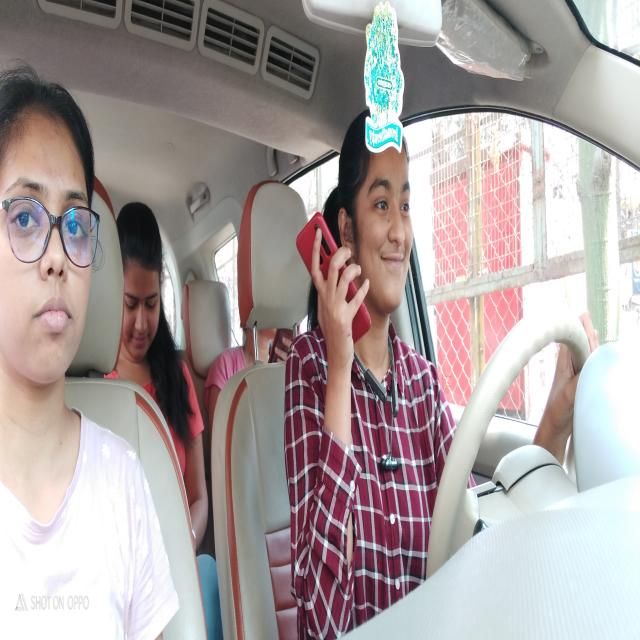mobile: (290, 215, 374, 370)
person: (0, 68, 101, 391), (338, 112, 421, 313), (120, 205, 166, 363)
